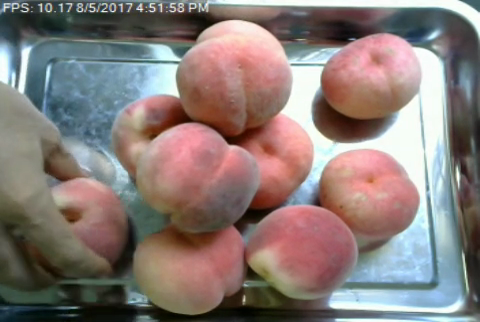Peach: (138, 124, 261, 231), (175, 32, 293, 134), (244, 204, 358, 299), (131, 226, 245, 315), (317, 147, 418, 244), (319, 31, 422, 122), (227, 109, 312, 208), (49, 174, 130, 265)
